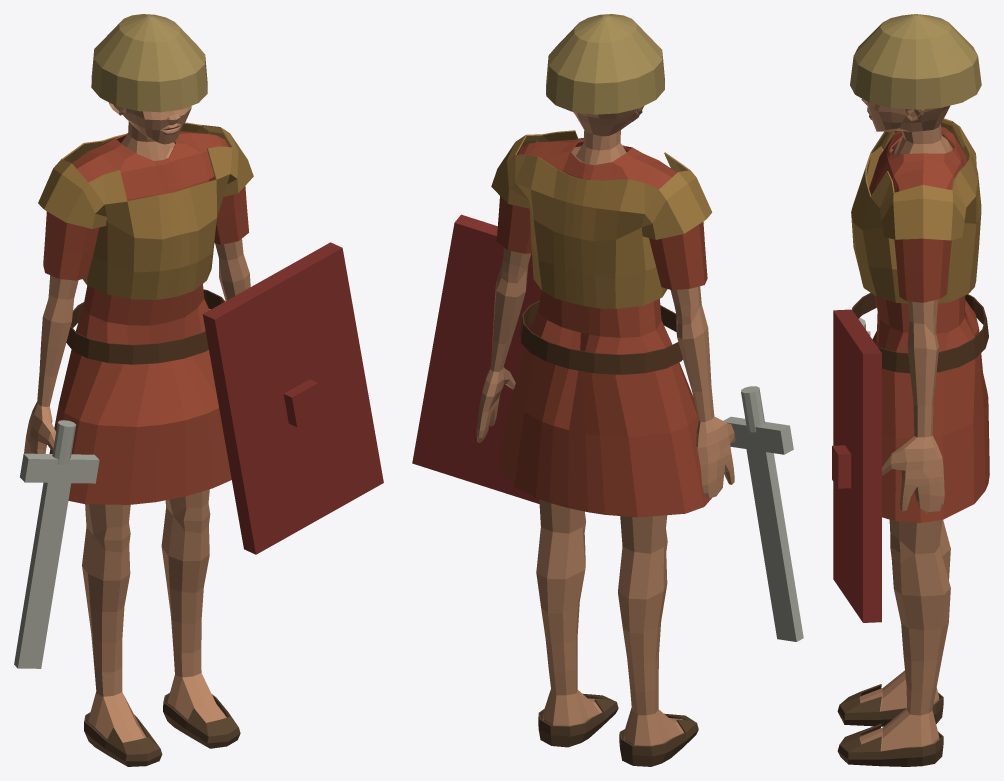
The model's file is gladiator.glb.
The picture shows the model from 3 angles, left to right: view 1: azimuth 30°, elevation 25°; view 2: azimuth 150°, elevation 25°; view 3: azimuth 270°, elevation 25°; orthographic projection. The views are drawn at different scales.
Parts seen in each view (by area): view 1: gladiator_GuardShield, gladiator_RomanTunic, gladiator_CharacterBase, gladiator_BronzeArmor, gladiator_RomanHelmet, gladiator_GladiatorSword, gladiator_RomanSandals, gladiator_LeatherBelt; view 2: gladiator_RomanTunic, gladiator_CharacterBase, gladiator_BronzeArmor, gladiator_GuardShield, gladiator_RomanHelmet, gladiator_GladiatorSword, gladiator_LeatherBelt, gladiator_RomanSandals; view 3: gladiator_CharacterBase, gladiator_RomanTunic, gladiator_GuardShield, gladiator_BronzeArmor, gladiator_RomanHelmet, gladiator_RomanSandals, gladiator_LeatherBelt.
Part boxes in pixels (x1,y1,x2,y2): gladiator_GuardShield: [202, 242, 383, 554]; gladiator_RomanTunic: [43, 131, 248, 504]; gladiator_CharacterBase: [24, 102, 250, 742]; gladiator_BronzeArmor: [38, 122, 253, 299]; gladiator_RomanHelmet: [91, 14, 207, 112]; gladiator_GladiatorSword: [14, 420, 99, 668]; gladiator_RomanSandals: [84, 693, 240, 766]; gladiator_LeatherBelt: [66, 289, 224, 364]; gladiator_RomanTunic: [496, 138, 712, 517]; gladiator_CharacterBase: [476, 106, 735, 746]; gladiator_BronzeArmor: [491, 130, 712, 308]; gladiator_GuardShield: [412, 214, 541, 503]; gladiator_RomanHelmet: [546, 14, 664, 114]; gladiator_GladiatorSword: [723, 386, 803, 641]; gladiator_LeatherBelt: [520, 300, 682, 374]; gladiator_RomanSandals: [538, 693, 698, 766]; gladiator_CharacterBase: [859, 99, 952, 751]; gladiator_RomanTunic: [869, 126, 989, 522]; gladiator_GuardShield: [832, 309, 881, 622]; gladiator_BronzeArmor: [851, 118, 981, 303]; gladiator_RomanHelmet: [850, 14, 981, 109]; gladiator_RomanSandals: [837, 684, 943, 766]; gladiator_LeatherBelt: [852, 292, 988, 373].
Size of the model in its own units: 1.01 by 1.87 by 0.3686.
